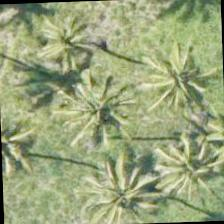Kelapa_Sawit: (126, 32, 218, 126), (137, 119, 223, 213)
